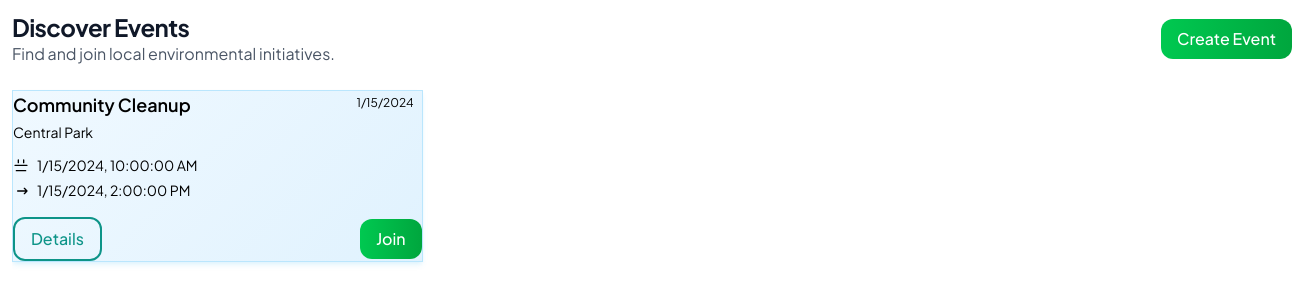
it: EventsPage Component › should handle Join button click
The width and height of the screenshot is (1304, 283).
Click the button "Join".
click(391, 239)  # box [360,219,422,259]
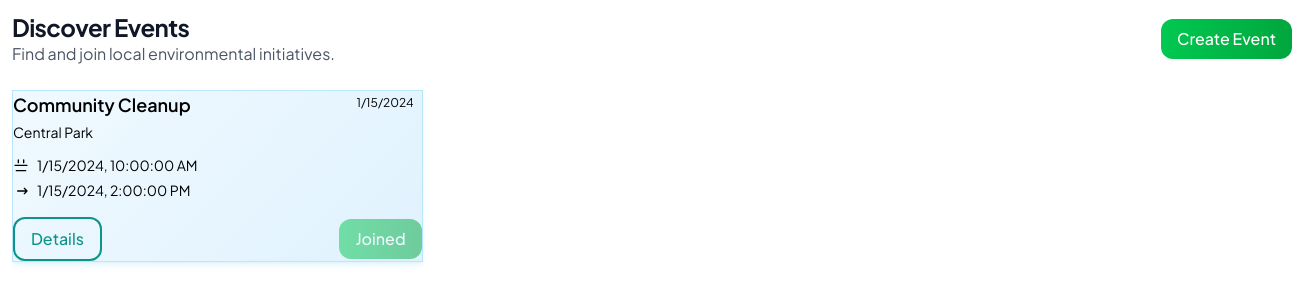
expect the button "Joined" is shown: met, box [339,219,422,259]
